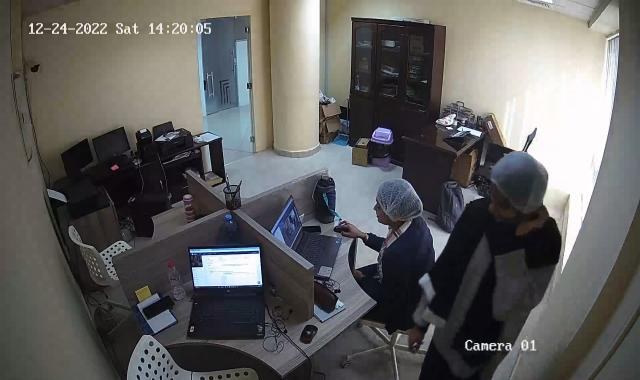hairnet: (484, 146, 548, 217), (372, 177, 422, 224)
